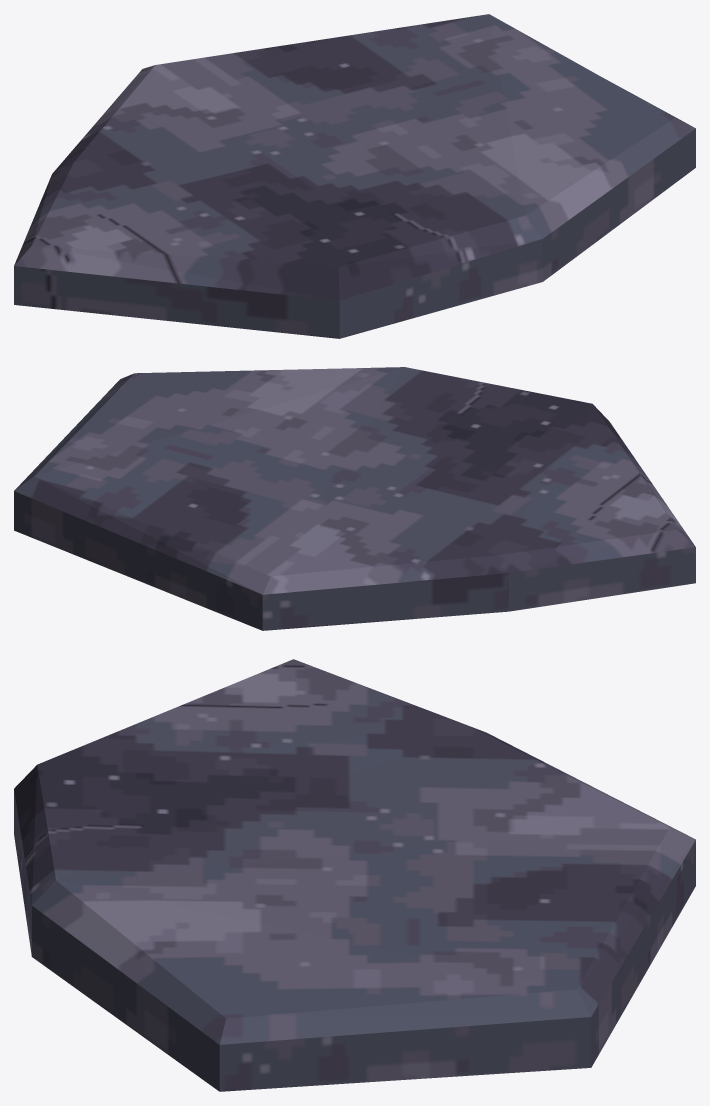
The model's file is SM_CV_FloorSlabA.fbx.
The picture shows the model from 3 angles, top to bottom: view 1: azimuth 30°, elevation 25°; view 2: azimuth 150°, elevation 25°; view 3: azimuth 270°, elevation 25°; orthographic projection. The views are drawn at different scales.
Visible parts, largest first — view 1: CV_FloorSlabA_Slab; view 2: CV_FloorSlabA_Slab; view 3: CV_FloorSlabA_Slab.
Part boxes in pixels (<box>): CV_FloorSlabA_Slab: <box>14,14,695,338</box>; CV_FloorSlabA_Slab: <box>14,367,695,630</box>; CV_FloorSlabA_Slab: <box>14,659,695,1091</box>.
Bounding box in the file's own units: 1.2 × 0.11 × 0.9091.
